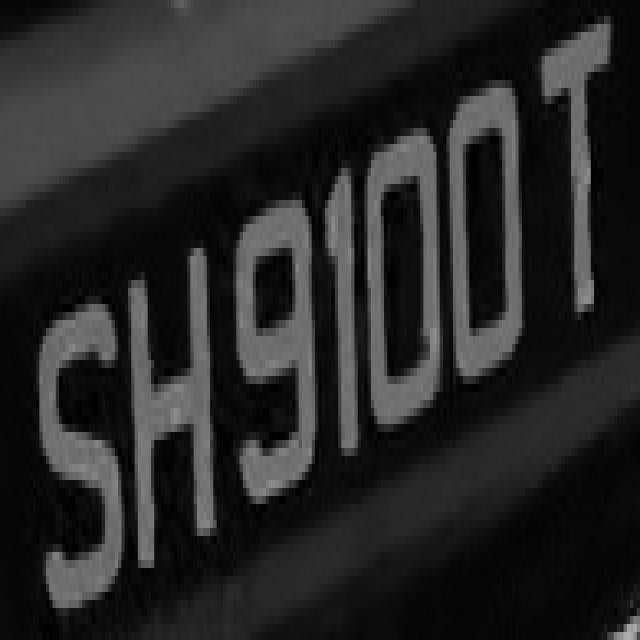0: (351, 104, 437, 480), (437, 88, 525, 432)
1: (312, 136, 364, 512)
9: (220, 176, 318, 560)
H: (118, 240, 217, 584)
S: (23, 280, 121, 632)
T: (528, 40, 627, 336)
